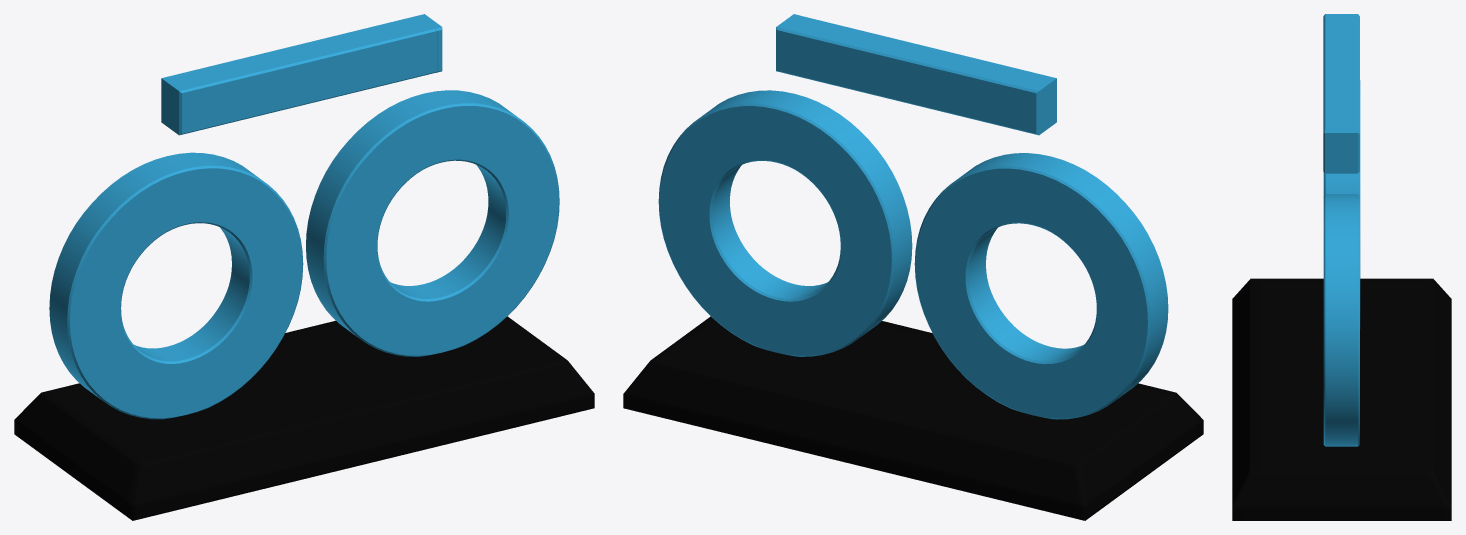
The model's file is Viroo3D_Wieght.fbx.
The picture shows the model from 3 angles, left to right: view 1: azimuth 30°, elevation 25°; view 2: azimuth 150°, elevation 25°; view 3: azimuth 270°, elevation 25°; orthographic projection. The views are drawn at different scales.
Parts seen in each view (by area): view 1: pCube2; view 2: pCube2; view 3: pCube2.
Part boxes in pixels (<box>): pCube2: <box>14,14,594,520</box>; pCube2: <box>623,14,1203,520</box>; pCube2: <box>1232,14,1451,520</box>.
Bounding box in the file's own units: 2.88 × 2.07 × 1.2.
